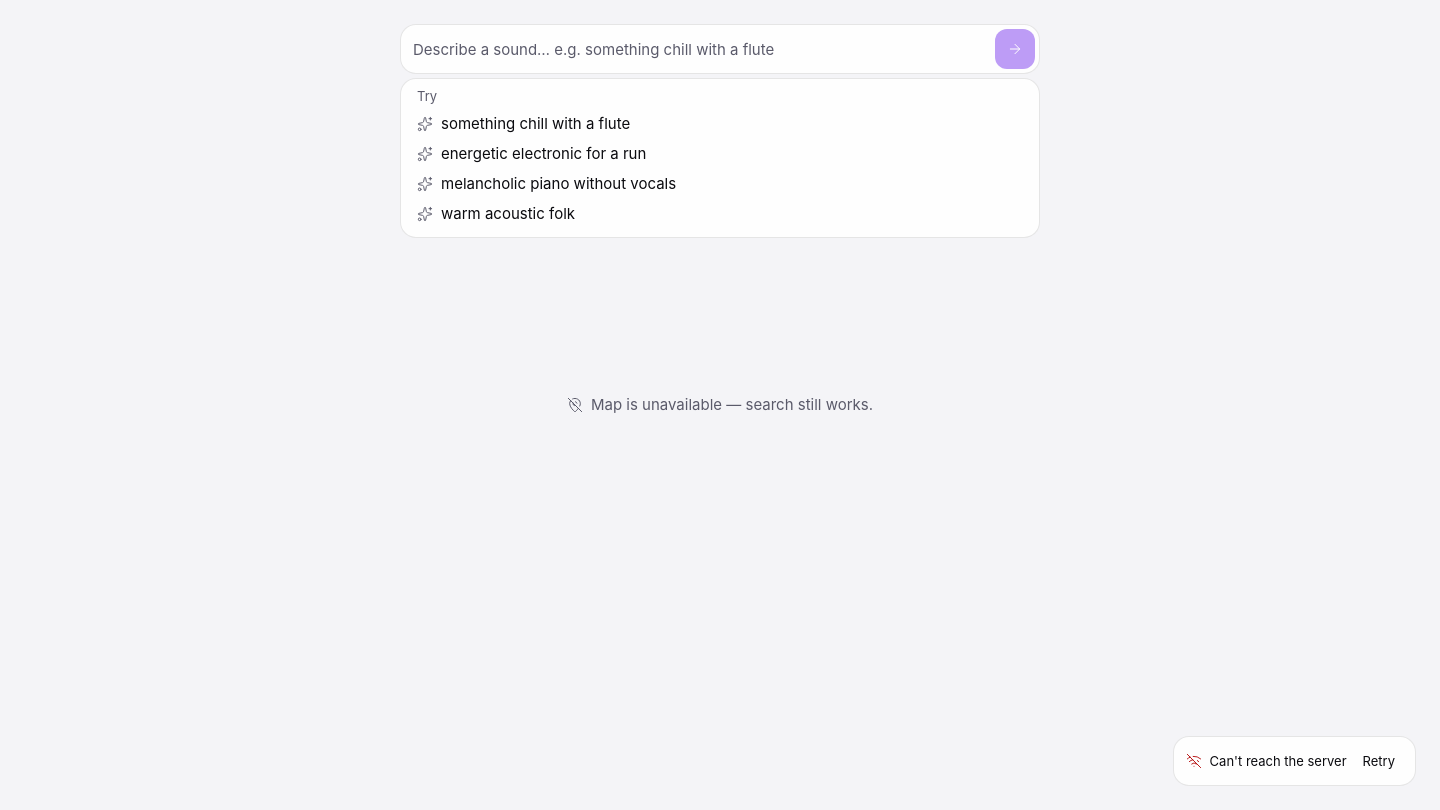
Test: DiscoverPage › offline: keeps the typed query, explains, and retries
The image size is (1440, 810).
Type "chill flute" into the field named "Search by describing a sound". click: (700, 49)
box: [413,29,987,69]
Then press Enter
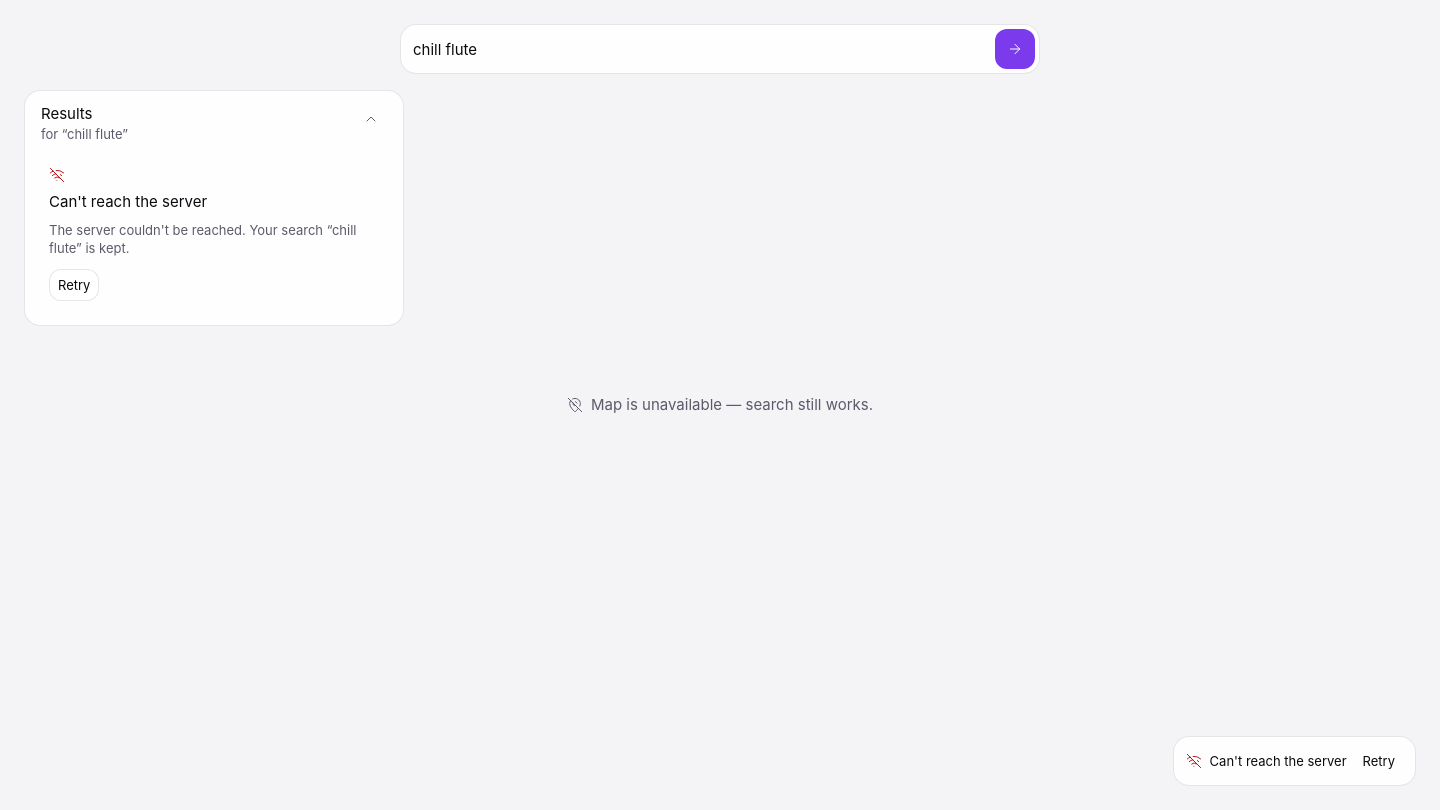
Expected: the text "Can't reach the server" is shown, [1210,752,1347,770]
Result: the text "Your search “chill flute” is kept" is shown at [49,222,356,256]
Click the button "Retry" below "The server couldn't be reached.". click: (74, 285)
box: [49,269,99,301]
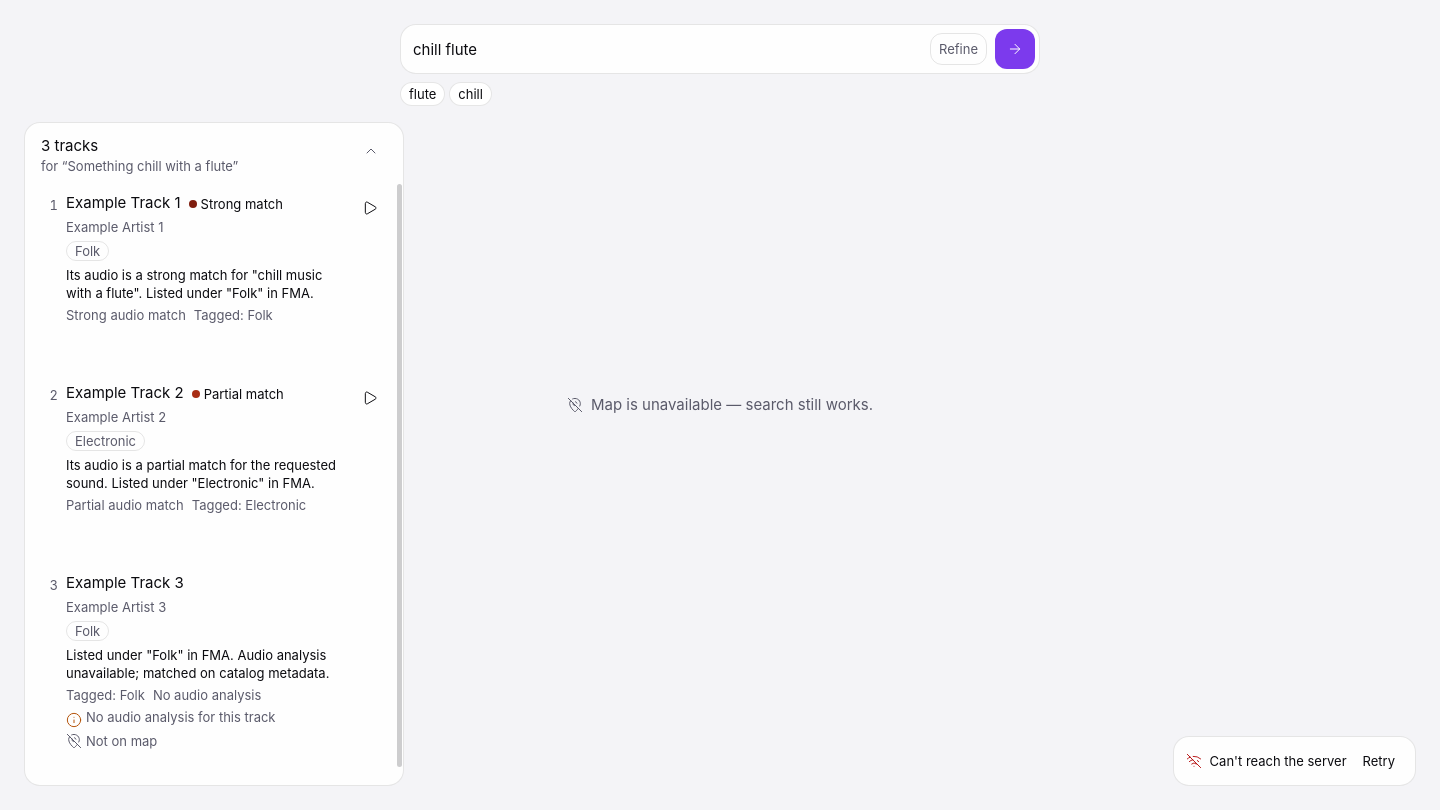
Result: the list named "Ranked results" is shown at [33,183,395,785]
